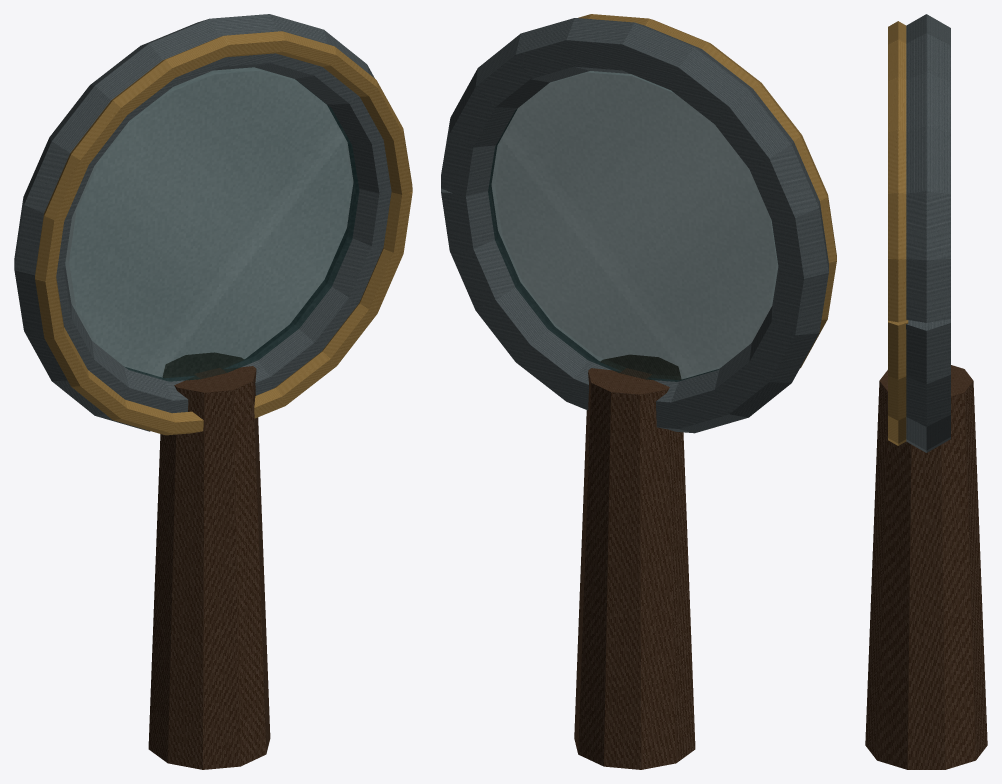
File: blender_spectral_prism_1.glb
3 views of the same model, side by side, from view 1: azimuth 30°, elevation 25°; view 2: azimuth 150°, elevation 25°; view 3: azimuth 270°, elevation 25° (orthographic).
Visible parts, largest first — view 1: blender_spectral_prism_1; view 2: blender_spectral_prism_1; view 3: blender_spectral_prism_1.
Part boxes in pixels (<box>): blender_spectral_prism_1: <box>14,14,412,769</box>; blender_spectral_prism_1: <box>441,14,836,769</box>; blender_spectral_prism_1: <box>865,14,987,769</box>.
Bounding box in the file's own units: 0.0939 × 0.167 × 0.026.
Materials: 4 (4 with a texture image).
